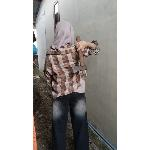Kapak: (68, 36, 88, 74)
